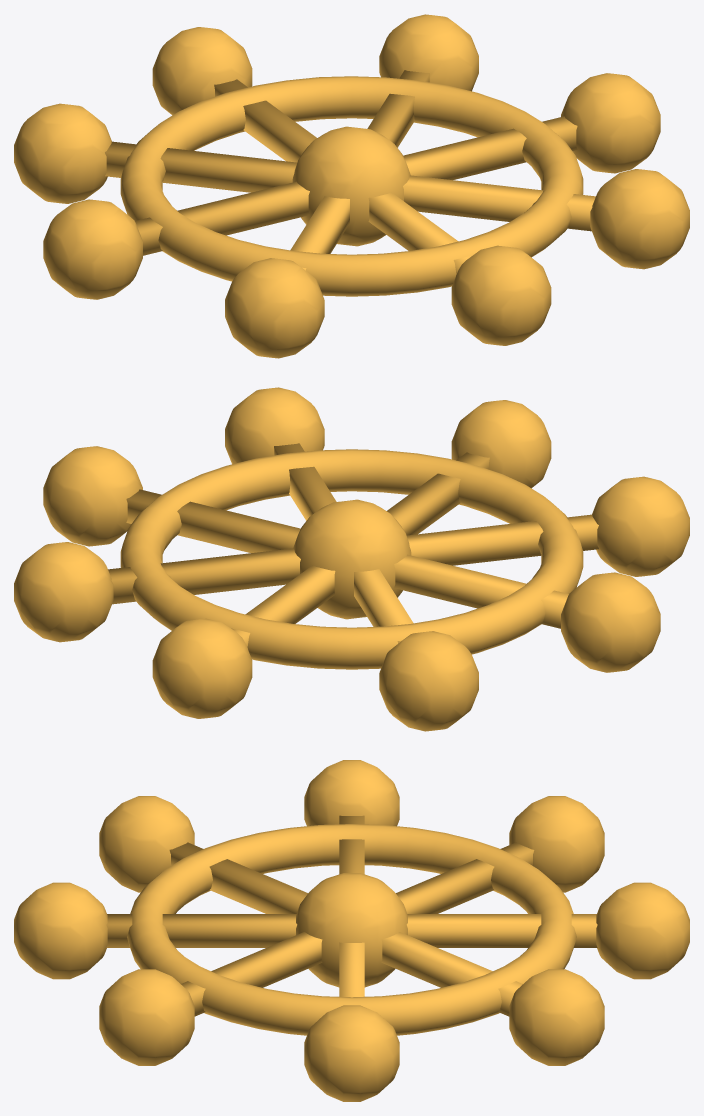
File: Mahoraga Wheel with detail.glb
3 renders of one model, top to bottom at view 1: azimuth 30°, elevation 25°; view 2: azimuth 150°, elevation 25°; view 3: azimuth 270°, elevation 25°, orthographic. The views are drawn at different scales.
Visible parts, largest first — view 1: Torus.003; view 2: Torus.003; view 3: Torus.003.
Boxes of the visible parts, left/top/right/bottom form: Torus.003: left=14, top=14, right=689, bottom=358; Torus.003: left=14, top=387, right=689, bottom=731; Torus.003: left=14, top=760, right=689, bottom=1101.
Bounding box in the file's own units: 3.96 × 0.6709 × 3.96.
1 material, 1 textured.
